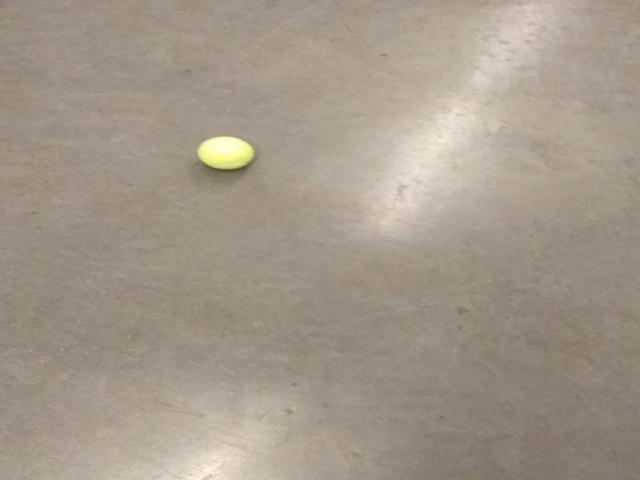tennis-ball: (196, 135, 255, 171)
